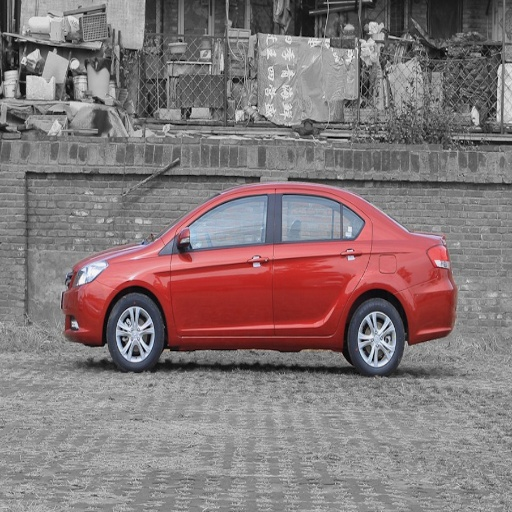back_left_door: (275, 191, 369, 335)
front_left_door: (170, 191, 274, 336)
